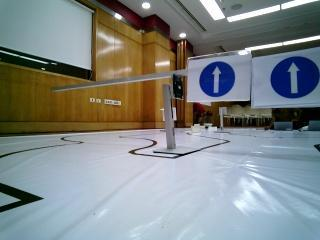straight: (249, 53, 319, 108), (186, 56, 251, 102)
